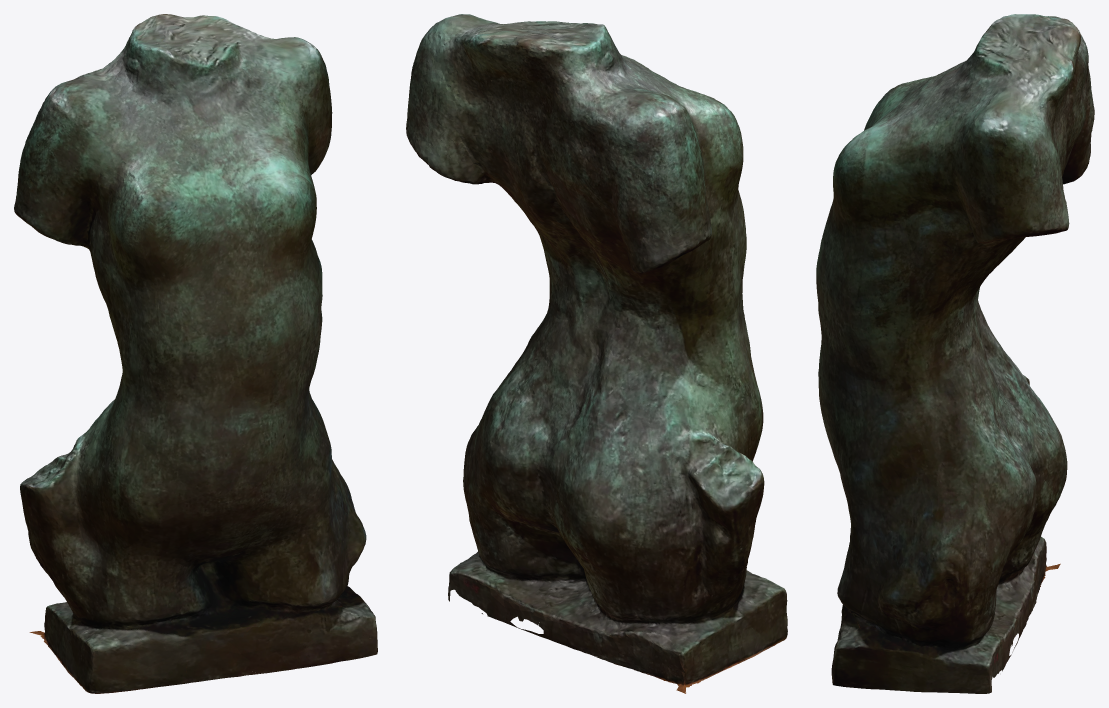
File: preview.glb
3 renders of one model, left to right at view 1: azimuth 30°, elevation 25°; view 2: azimuth 150°, elevation 25°; view 3: azimuth 270°, elevation 25°, orthographic. The views are drawn at different scales.
Bounding box in the file's own units: 0.4865 × 0.8699 × 0.3632.
Materials: 1 (1 with a texture image).
